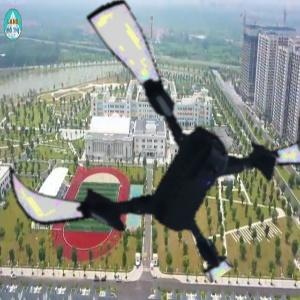drone: (5, 1, 298, 294)
